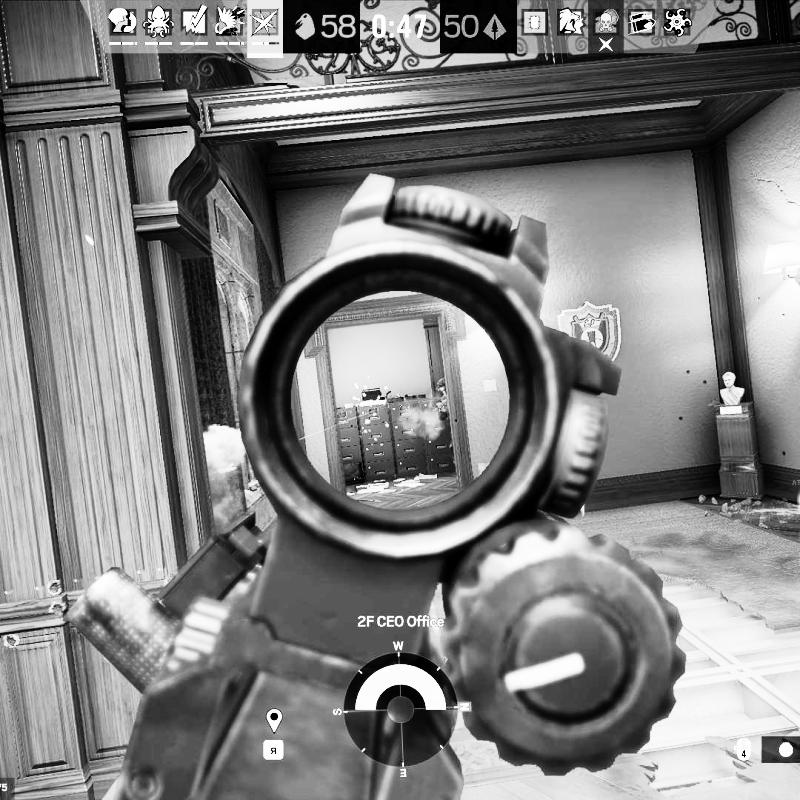Character: (430, 378, 455, 462)
Head: (437, 380, 447, 394)
